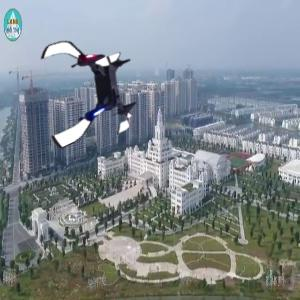drone: (29, 31, 146, 148)
